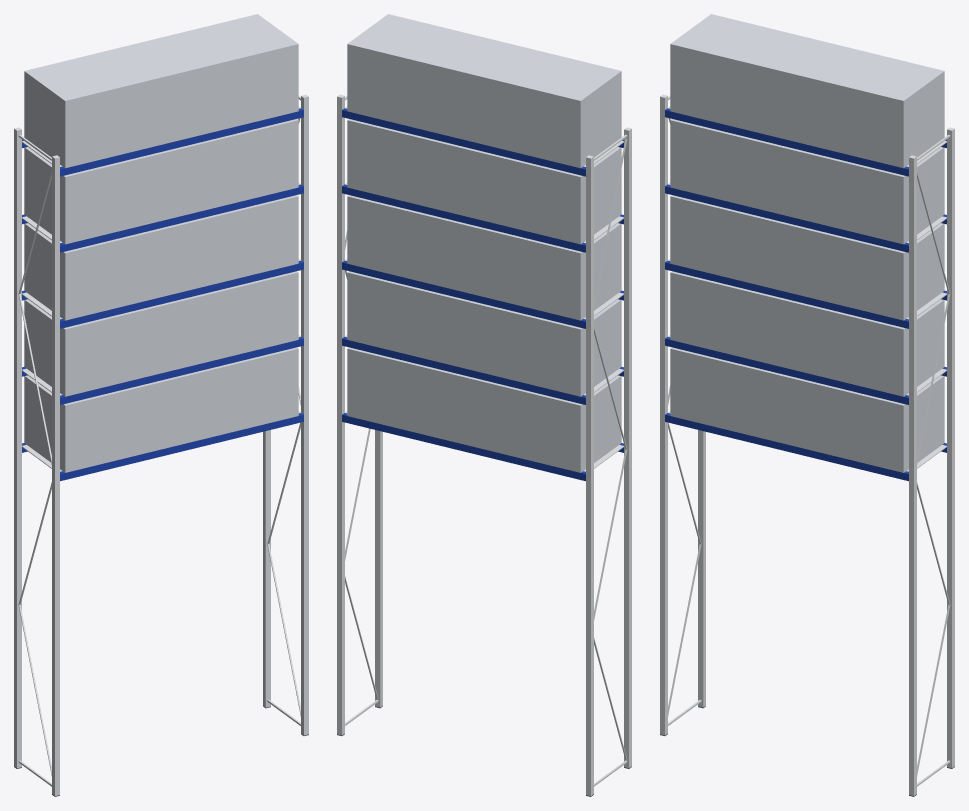
File: SM_MPR_CADRack_F9_W144_Passage_LOD2.fbx
3 renders of one model, left to right at view 1: azimuth 30°, elevation 25°; view 2: azimuth 150°, elevation 25°; view 3: azimuth 330°, elevation 25°, orthographic.
Parts seen in each view (by area): view 1: SM_MPR_CADRack_F9_W144_Passage_LOD2; view 2: SM_MPR_CADRack_F9_W144_Passage_LOD2; view 3: SM_MPR_CADRack_F9_W144_Passage_LOD2.
Part boxes in pixels (<box>): SM_MPR_CADRack_F9_W144_Passage_LOD2: <box>14,14,308,796</box>; SM_MPR_CADRack_F9_W144_Passage_LOD2: <box>337,14,631,796</box>; SM_MPR_CADRack_F9_W144_Passage_LOD2: <box>660,14,954,796</box>.
Bounding box in the file's own units: 381 × 107 × 994.
